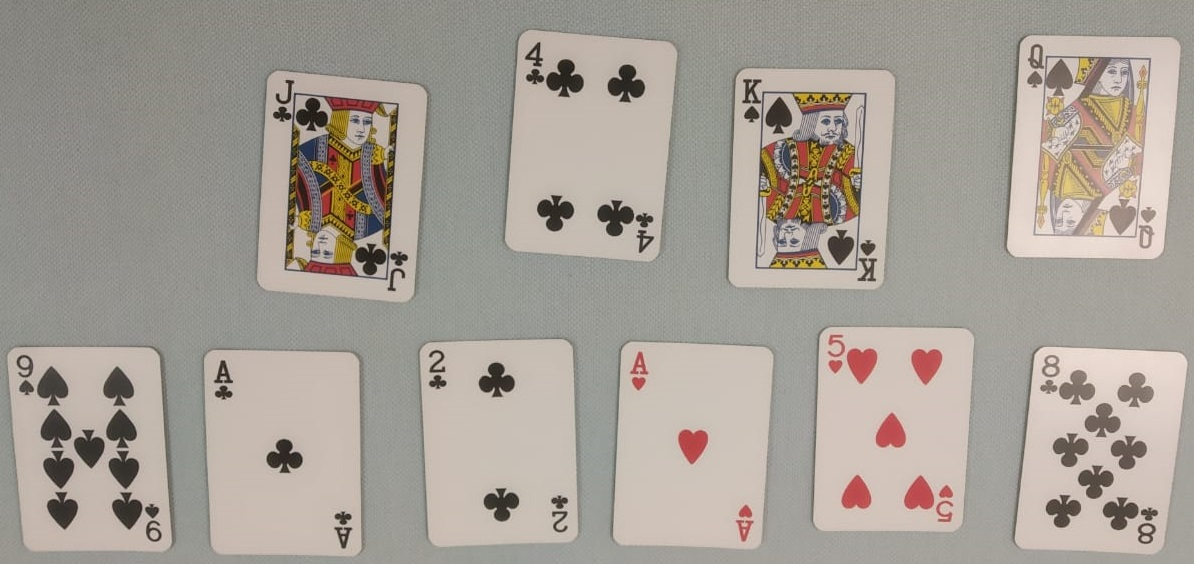ace: (189, 337, 393, 562), (609, 325, 776, 558)
eight: (996, 332, 1188, 556)
five: (809, 312, 982, 549)
four: (498, 17, 687, 281)
jack: (219, 41, 444, 316)
king: (718, 51, 904, 299)
nine: (1, 327, 181, 560)
queen: (999, 24, 1189, 286)
two: (418, 332, 592, 551)
